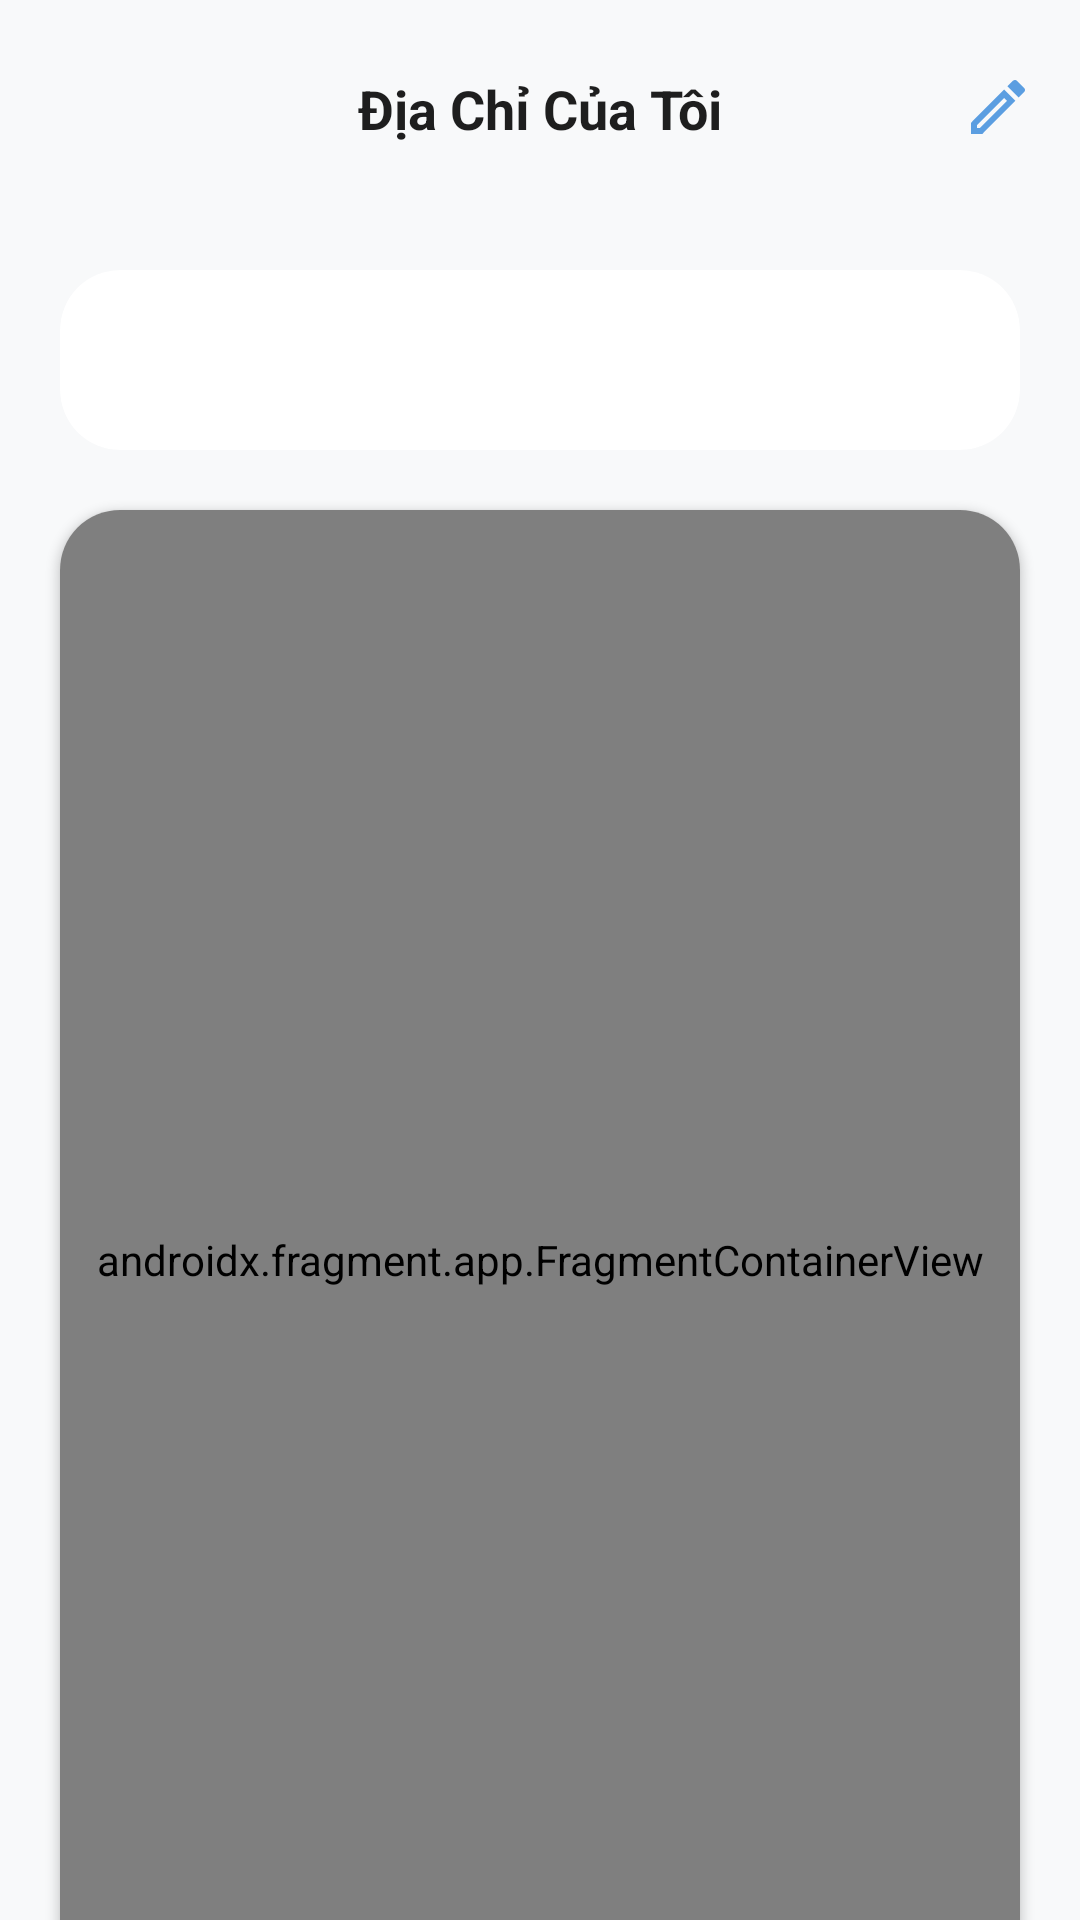

Icons on this 1080*1920 Android screen, each with the point to tap as (x,y):
edit: (998,107)
